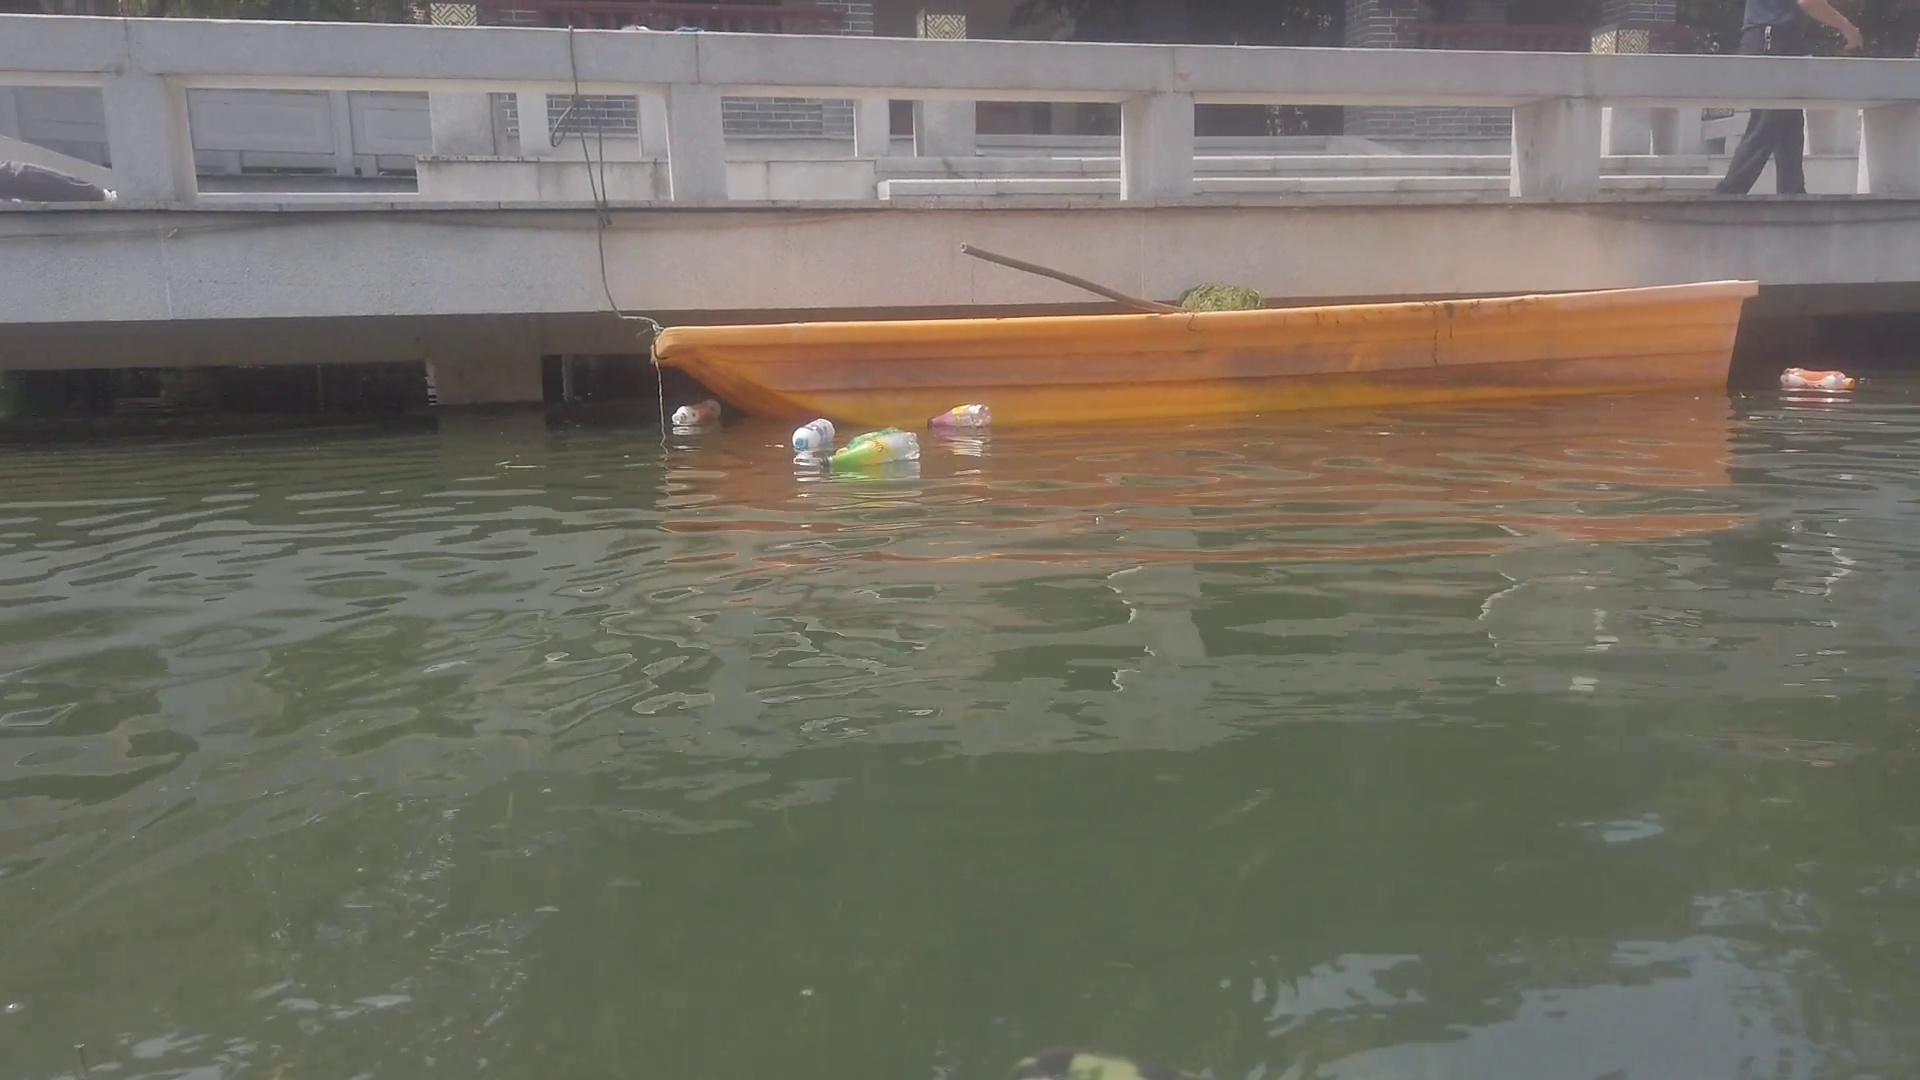bottle: (814, 430, 918, 467), (1782, 364, 1854, 392), (840, 426, 901, 456), (923, 406, 988, 430), (667, 396, 717, 425), (790, 417, 832, 448)
